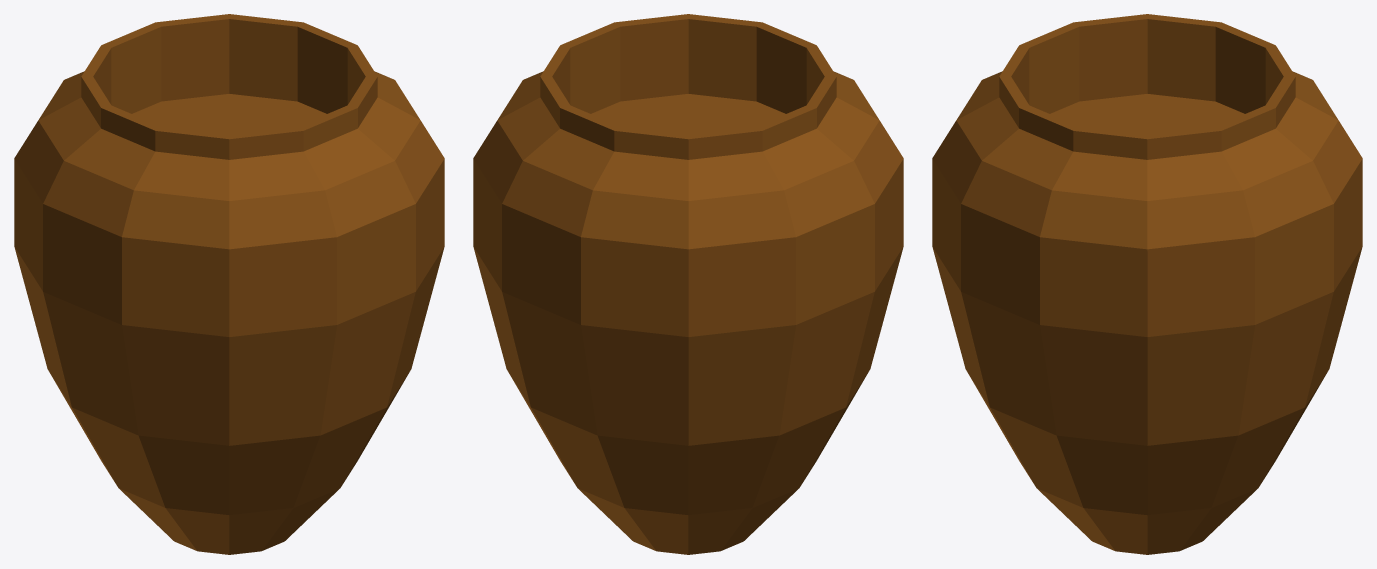
Rendered from SM_pottery_019.fbx.
3 renders of one model, left to right at view 1: azimuth 30°, elevation 25°; view 2: azimuth 150°, elevation 25°; view 3: azimuth 270°, elevation 25°, orthographic.
Parts seen in each view (by area): view 1: Cylinder016; view 2: Cylinder016; view 3: Cylinder016.
Part boxes in pixels (box(x1,y1,x2,y2)): Cylinder016: box(14, 14, 444, 554); Cylinder016: box(473, 14, 903, 554); Cylinder016: box(932, 14, 1362, 554).
Bounding box in the file's own units: 24.66 × 24.66 × 28.52.
